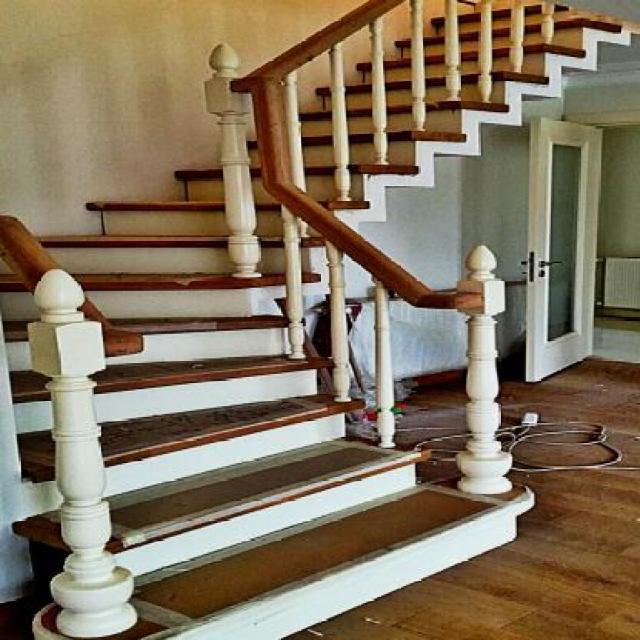stair: (0, 0, 634, 640)
